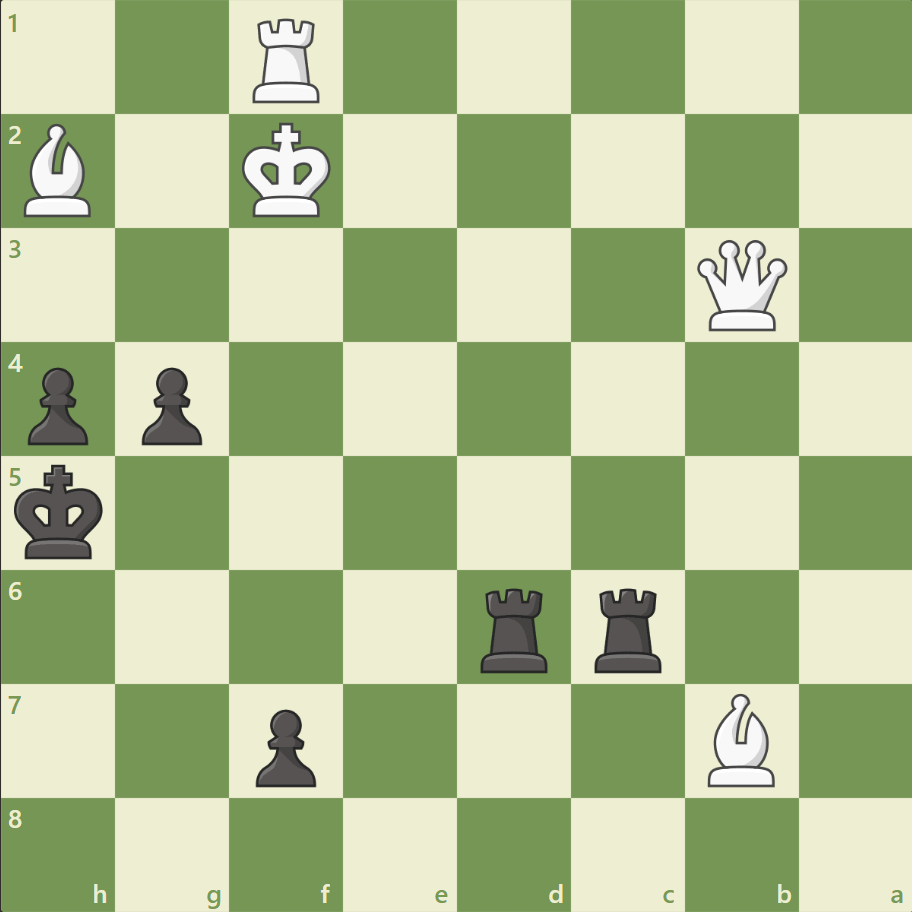B: (698, 687, 782, 790), (17, 120, 101, 222)
K: (238, 117, 338, 225)
Q: (691, 236, 790, 335)
R: (246, 12, 329, 109)
k: (11, 458, 111, 566)
p: (247, 700, 322, 791), (133, 359, 208, 450), (20, 359, 95, 450)
r: (587, 579, 670, 676), (473, 579, 556, 676)
